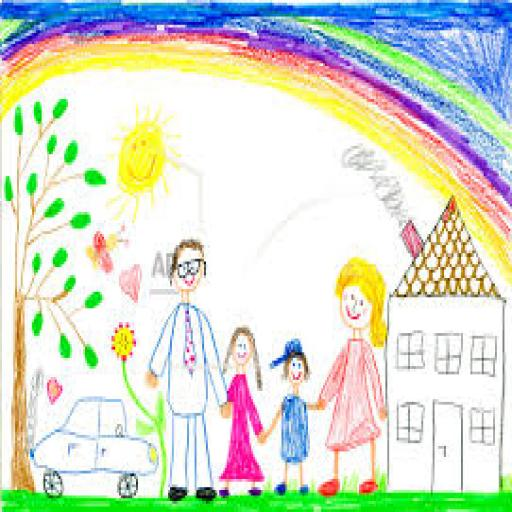person: (147, 237, 231, 505), (314, 256, 389, 498), (213, 320, 266, 498), (264, 334, 320, 498)
